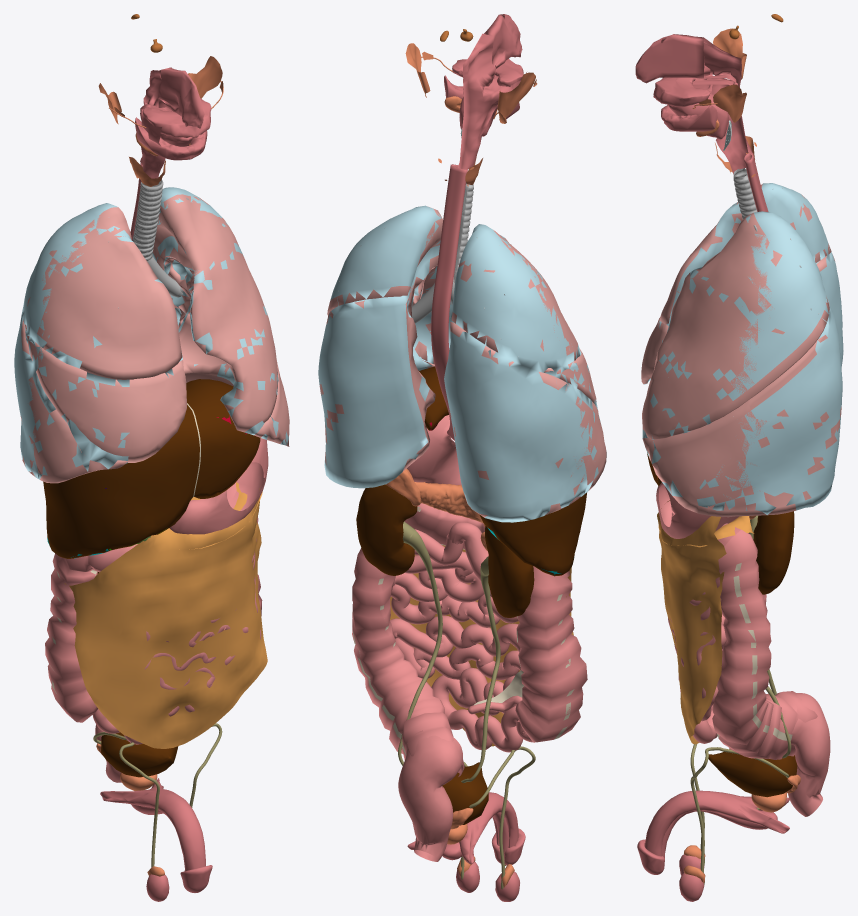
Rendered from z-anatomy-visceral.glb.
3 renders of one model, left to right at view 1: azimuth 30°, elevation 25°; view 2: azimuth 150°, elevation 25°; view 3: azimuth 270°, elevation 25°, orthographic. The views are drawn at different scales.
Visible parts, largest first — view 1: Greater omentum.001, Liver.001, Superior lobe of right lung.001, Superior lobe of left lung.001, Pleura.001, Middle lobe of right lung.001, Ascending colon.001, Inferior lobe of right lung.001, Stomach.001, Corpus cavernosum of penis.001, Inferior lobe of left lung.001, Gingiva.001 (+8 smaller); view 2: Pleura.001, Jejunum.001, Ascending colon.001, Descending colon.001, Sigmoid colon.001, Liver.001, Kidney.l.001, Oesophagus.001, Kidney.r.001, Inferior lobe of right lung.001, Stomach.001, Superior lobe of left lung.001 (+21 smaller); view 3: Pleura.001, Superior lobe of left lung.001, Descending colon.001, Inferior lobe of left lung.001, Greater omentum.001, Sigmoid colon.001, Corpus cavernosum of penis.001, Mucosa of nasal cavity.001, Kidney.l.001, Urinary bladder.001, Gingiva.001, Stomach.001 (+17 smaller).
Part boxes in pixels (box(x1,y1,x2,y2)): Greater omentum.001: box(64, 488, 267, 748); Liver.001: box(43, 379, 260, 558); Superior lobe of right lung.001: box(27, 207, 182, 379); Superior lobe of left lung.001: box(153, 194, 277, 432); Pleura.001: box(14, 187, 288, 479); Middle lobe of right lung.001: box(24, 324, 186, 462); Ascending colon.001: box(45, 553, 97, 722); Inferior lobe of right lung.001: box(20, 319, 127, 483); Stomach.001: box(169, 438, 268, 534); Corpus cavernosum of penis.001: box(100, 778, 205, 871); Inferior lobe of left lung.001: box(174, 304, 289, 446); Gingiva.001: box(135, 98, 211, 160); Pleura.001: box(318, 205, 600, 522); Jejunum.001: box(390, 529, 532, 752); Ascending colon.001: box(515, 566, 587, 742); Descending colon.001: box(352, 548, 464, 776); Sigmoid colon.001: box(398, 730, 462, 861); Liver.001: box(419, 366, 586, 576); Kidney.l.001: box(356, 484, 417, 575); Oesophagus.001: box(431, 164, 467, 440); Kidney.r.001: box(485, 525, 534, 617); Inferior lobe of right lung.001: box(449, 321, 606, 517); Stomach.001: box(407, 415, 461, 485); Superior lobe of left lung.001: box(327, 207, 442, 364); Pleura.001: box(642, 183, 843, 514); Superior lobe of left lung.001: box(642, 213, 829, 439); Descending colon.001: box(712, 530, 817, 759); Inferior lobe of left lung.001: box(642, 301, 841, 517); Greater omentum.001: box(657, 500, 726, 744); Sigmoid colon.001: box(788, 693, 830, 816); Corpus cavernosum of penis.001: box(644, 790, 789, 856); Mucosa of nasal cavity.001: box(635, 34, 710, 83); Kidney.l.001: box(753, 511, 794, 594); Urinary bladder.001: box(708, 751, 797, 797); Gingiva.001: box(653, 74, 717, 131); Stomach.001: box(656, 482, 738, 538).
Size of the model in its own units: 0.2618 by 0.8933 by 0.192.
